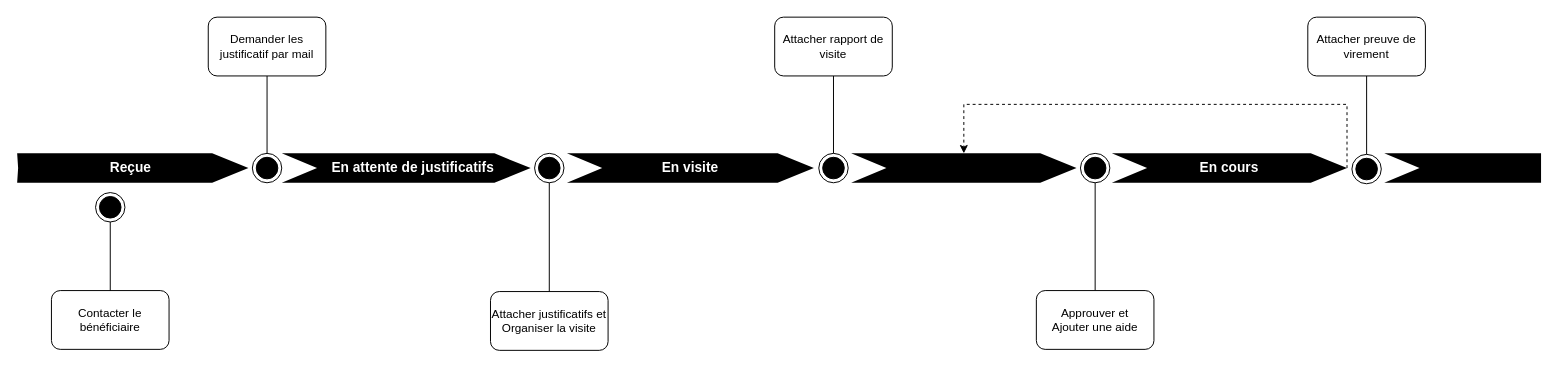
Image size: 1557x368. Some labels were removed from this diagram. Here are the shapes that lost their labels. From the top down, the centre of each, then its label:
At point 963,167: "En comité".
At point 1462,167: "Cloturée".
